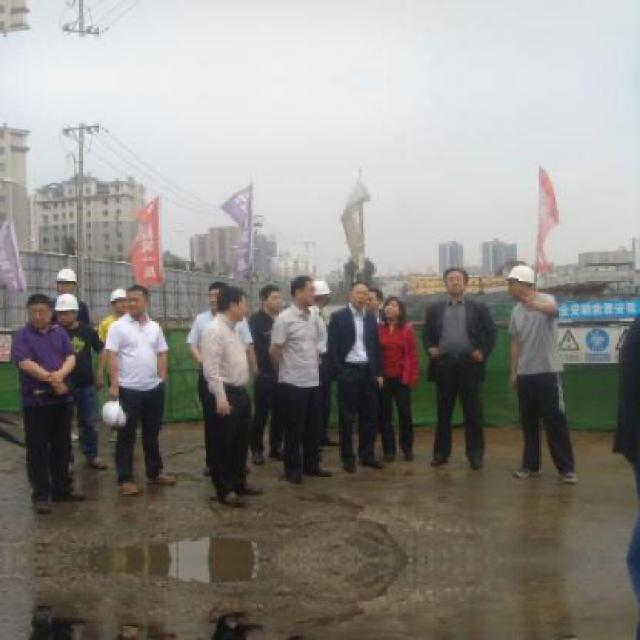con casco: (500, 255, 549, 324)
sin casco: (268, 264, 334, 332), (335, 280, 384, 329), (218, 281, 254, 328), (436, 254, 468, 305), (25, 298, 57, 344), (121, 283, 161, 319)
